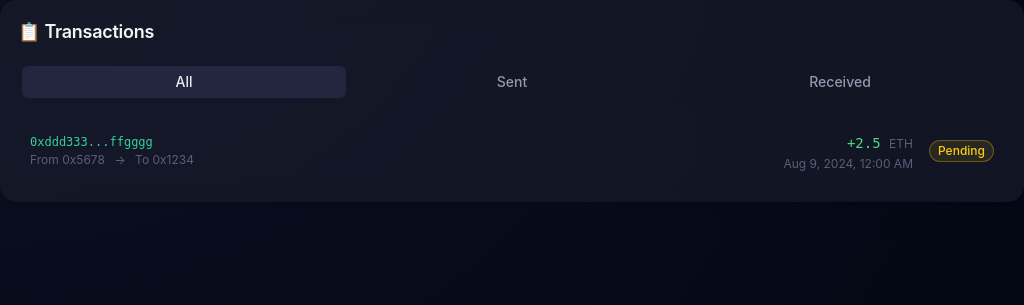
Test: TransactionHistory.svelte › shows "No sent transactions" when filtered
This screenshot has width=1024, height=305.
Step 1. Click the tab "Sent" → (512, 82), box [350,66,674,98]
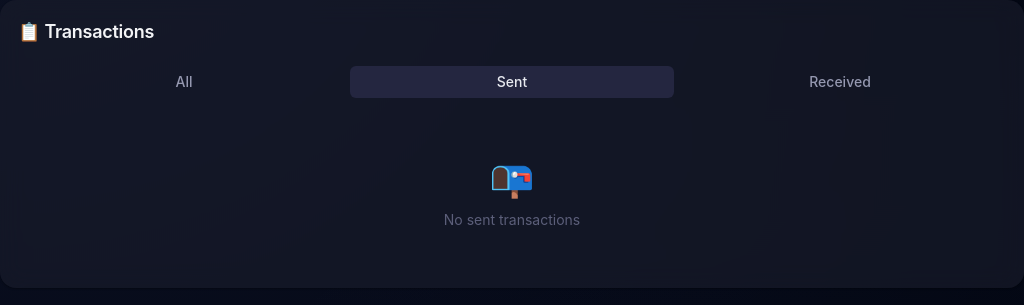
Expected: the text "No sent transactions" is shown, [444,211,580,228]
